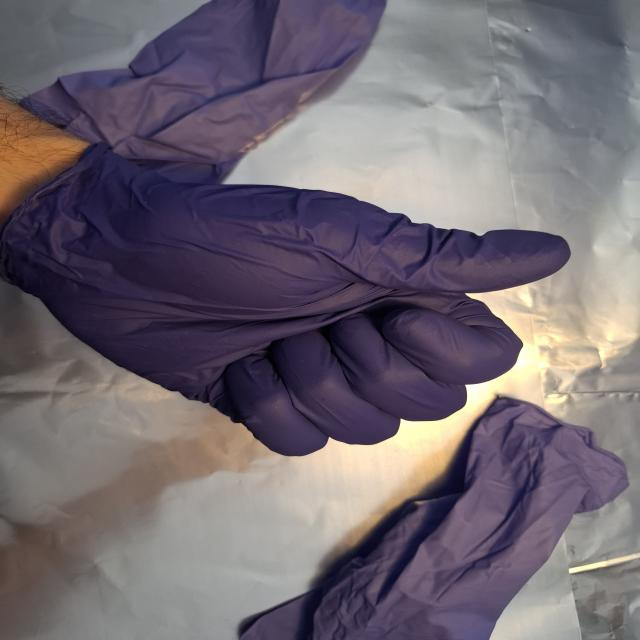glove_on: (0, 136, 574, 460)
